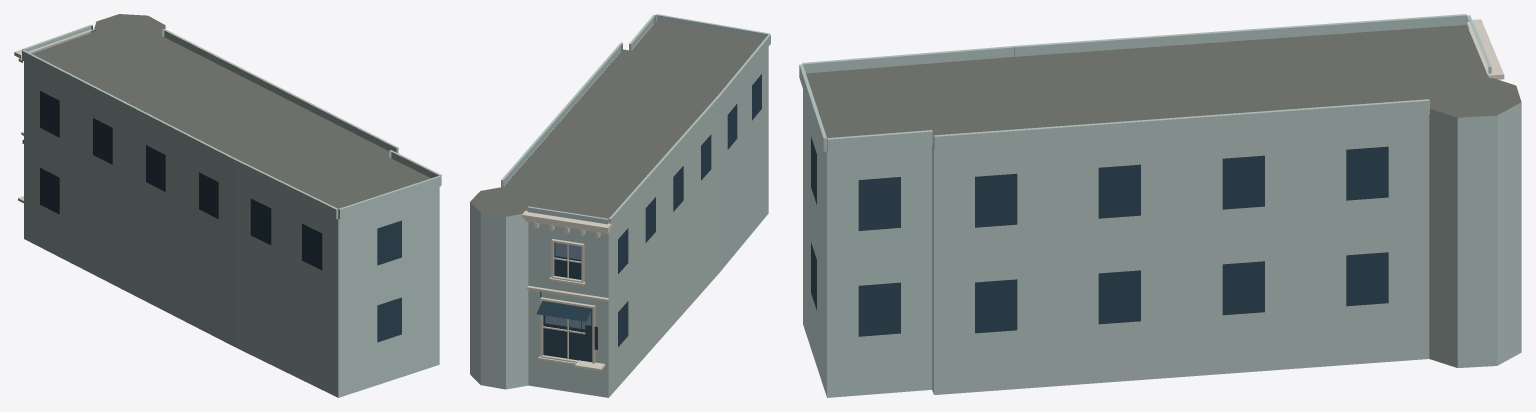
3 views of the same model, side by side, from view 1: azimuth 30°, elevation 25°; view 2: azimuth 150°, elevation 25°; view 3: azimuth 270°, elevation 25° (orthographic). The views are drawn at different scales.
Visible parts, largest first — view 1: Footprint 0 / surface 2, Footprint 0 / surface 1, Facade bay volumes, Inset glazing; view 2: Footprint 0 / surface 2, Footprint 0 / surface 1, Inset glazing, Facade bay volumes, Cornices and window frames, Storefronts and doors, Sky reflection panels; view 3: Footprint 0 / surface 2, Footprint 0 / surface 1, Inset glazing, Facade bay volumes, Cornices and window frames.
Part boxes in pixels (box(x1,y1,x2,y2)): Footprint 0 / surface 2: box(24, 26, 439, 397); Footprint 0 / surface 1: box(32, 14, 430, 208); Facade bay volumes: box(22, 24, 441, 219); Inset glazing: box(40, 91, 401, 342); Footprint 0 / surface 2: box(470, 47, 768, 397); Footprint 0 / surface 1: box(470, 21, 763, 218); Inset glazing: box(543, 74, 761, 362); Facade bay volumes: box(501, 14, 770, 227); Cornices and window frames: box(522, 210, 611, 371); Storefronts and doors: box(536, 291, 591, 360); Sky reflection panels: box(545, 242, 591, 329); Footprint 0 / surface 2: box(803, 89, 1521, 397); Footprint 0 / surface 1: box(806, 25, 1521, 143); Inset glazing: box(811, 137, 1388, 336); Facade bay volumes: box(799, 14, 1491, 152); Cornices and window frames: box(1467, 19, 1504, 79).
Size of the model in its own units: 10.17 by 9.69 by 24.4.
